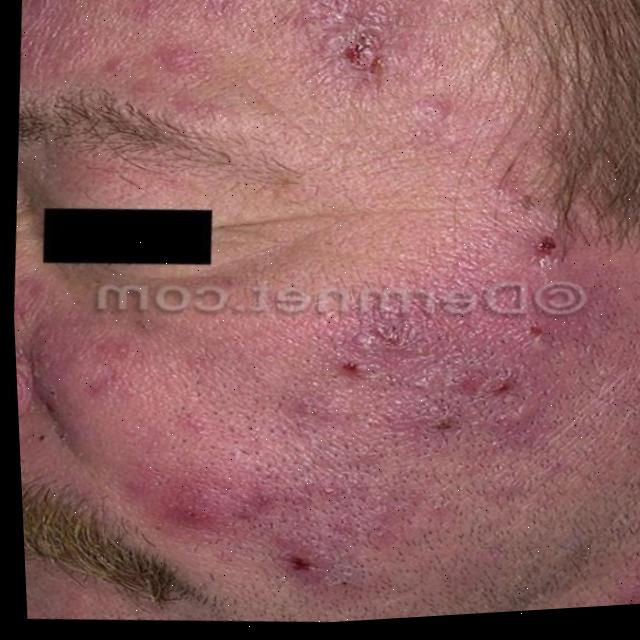Rosacea: (42, 0, 453, 131), (345, 219, 566, 444)
